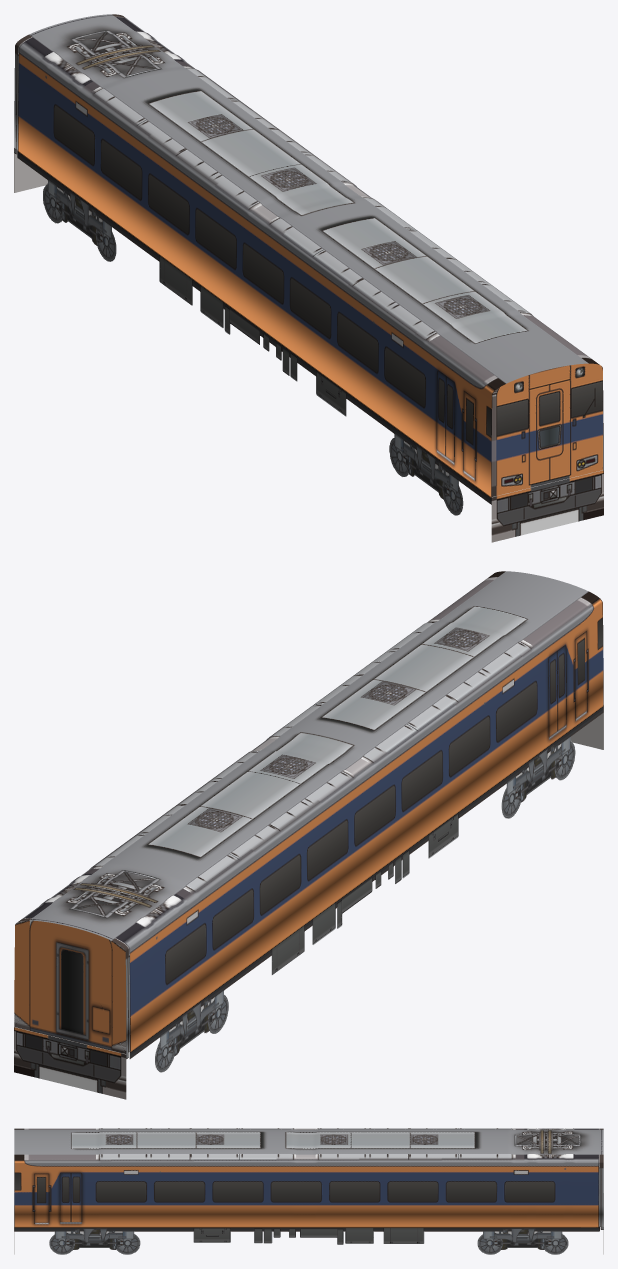
File: car1.glb
The picture shows the model from 3 angles, top to bottom: view 1: azimuth 30°, elevation 25°; view 2: azimuth 150°, elevation 25°; view 3: azimuth 270°, elevation 25°; orthographic projection. The views are drawn at different scales.
Parts seen in each view (by area): view 1: kintetsu-12410-car1; view 2: kintetsu-12410-car1; view 3: kintetsu-12410-car1.
Boxes of the visible parts, box(x1,y1,x2,y2) form: kintetsu-12410-car1: box(14, 14, 603, 542); kintetsu-12410-car1: box(14, 571, 603, 1099); kintetsu-12410-car1: box(14, 1128, 603, 1254).
Bounding box in the file's own units: 2.8 × 3.81 × 20.66.
Materials: 8 (7 with a texture image).
